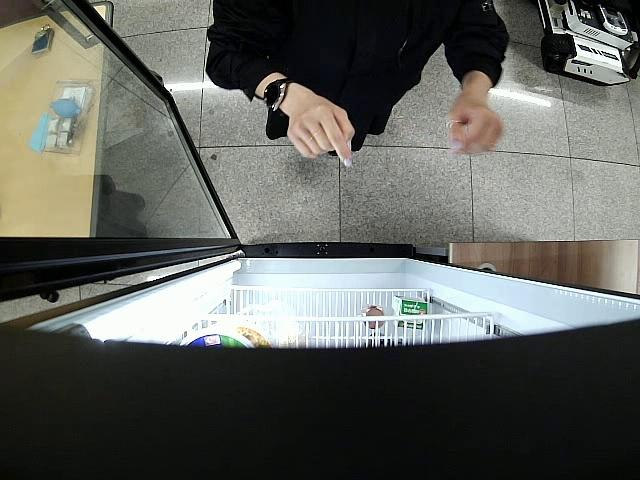00_hand: (285, 89, 356, 169), (448, 94, 503, 157)
